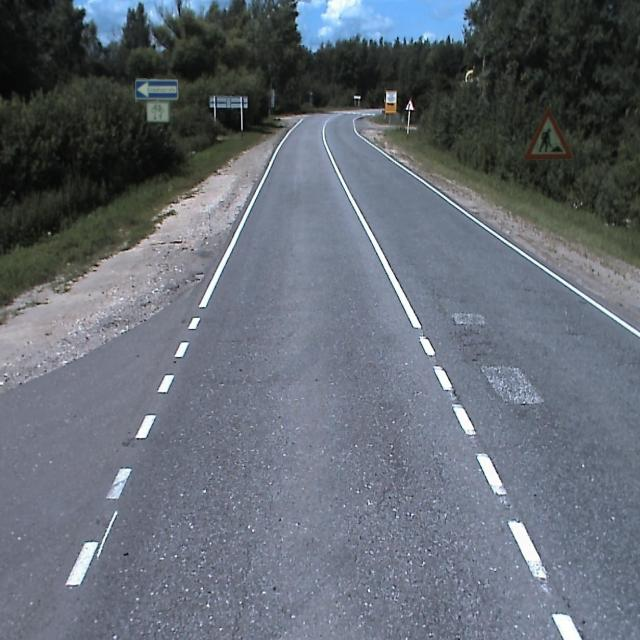road: (0, 109, 639, 639)
